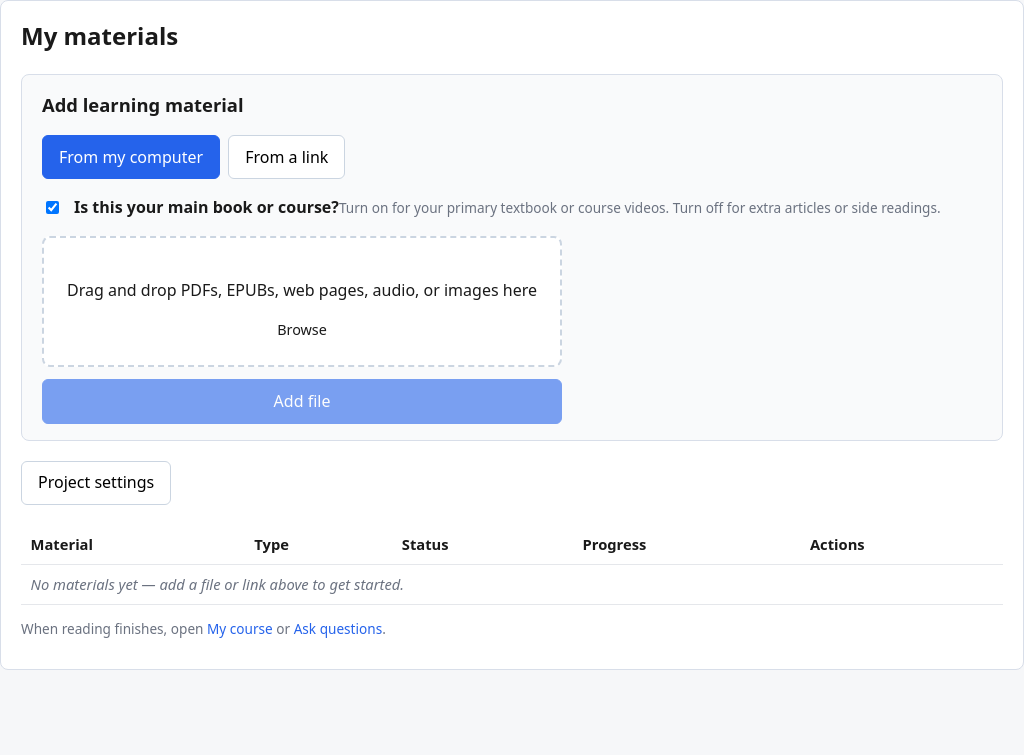
Scenario: CorpusView › says the course is already building instead of queueing a duplicate
Expected: the heading "My materials" is shown, 21,19 -> 178,52
Click the button "Project settings" at (96, 483), box 21,461 -> 171,505
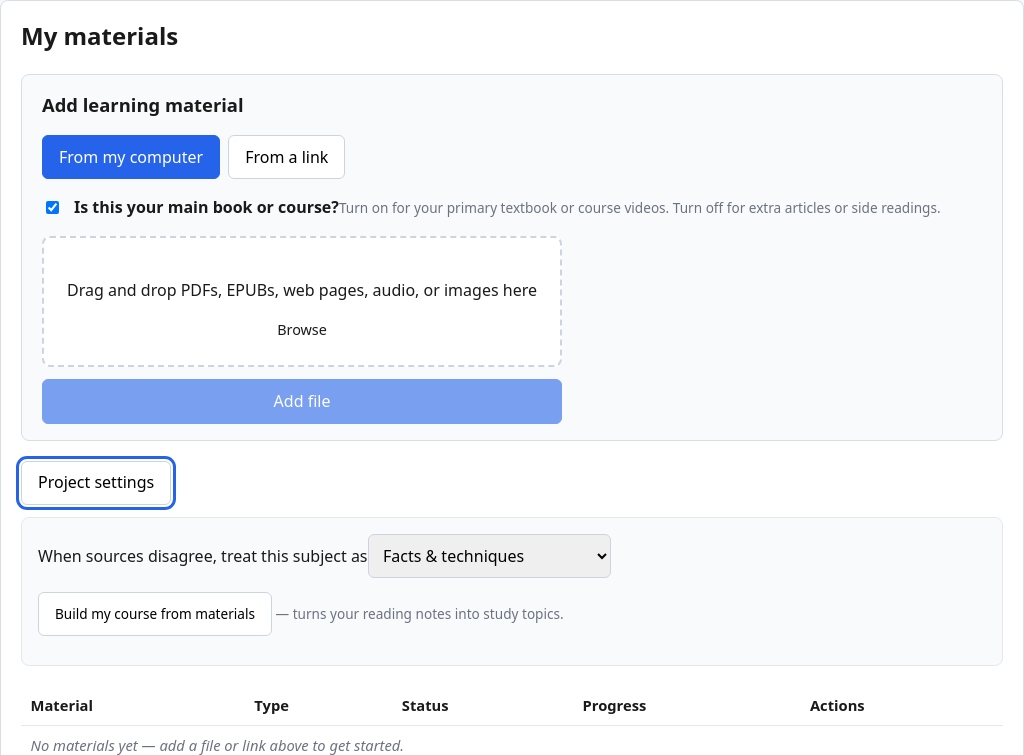
Click the button "Build my course from materials" at (155, 614), box 38,592 -> 272,636
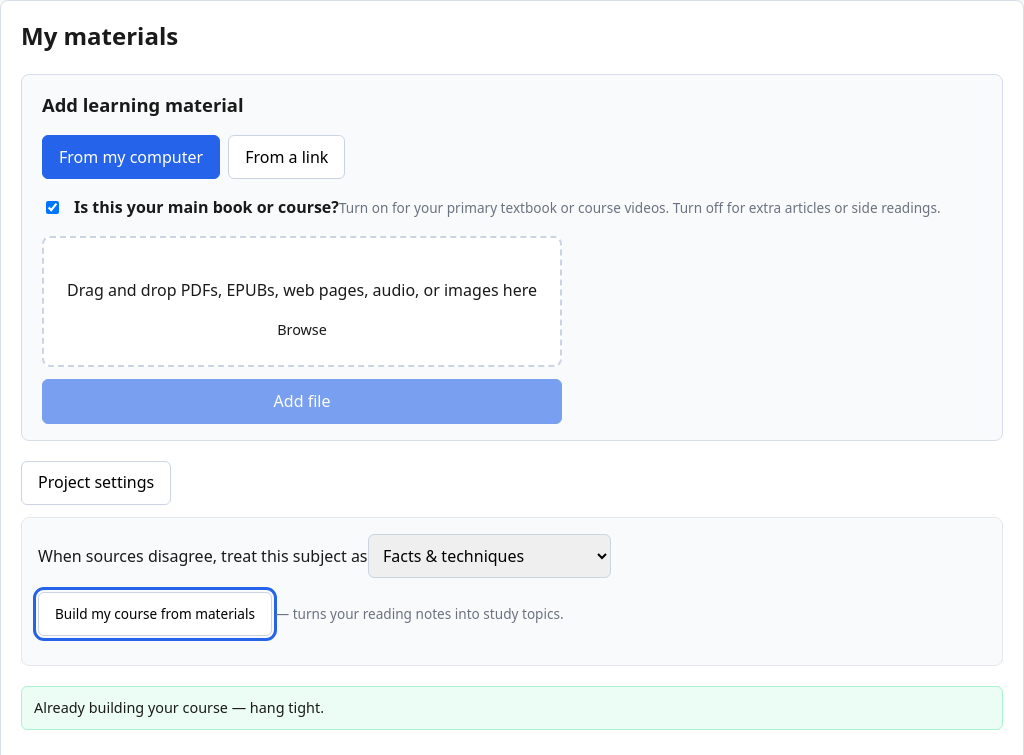
Now the text "Already building your course — hang tight." is shown, box 21,686 -> 1003,730
